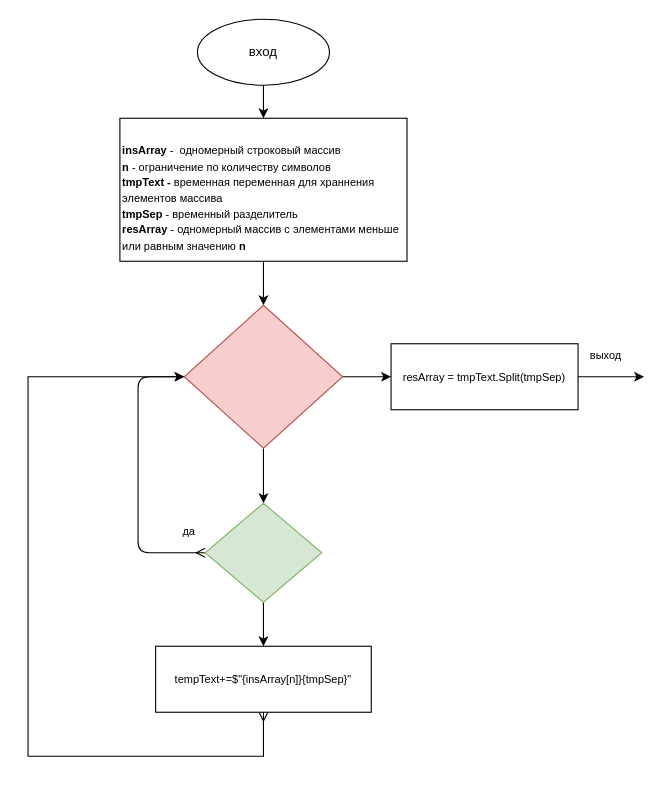
This 672x785 diagram has some shape labels left out. Here are the shapes that lost their labels. From the top down, the centre of each, then its label:
At (263,376): "i=0;i <. insArray.Length;i++".
At (263,552): "insArray[n]>n".
